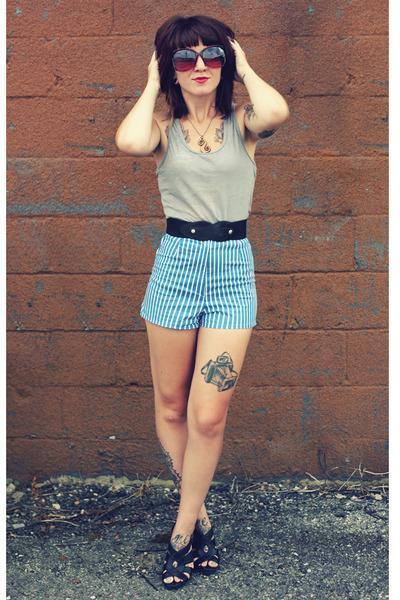shirt: (156, 109, 256, 223)
shoe: (143, 519, 230, 591)
shorts: (140, 234, 256, 330)
sunglass: (180, 39, 224, 72)
